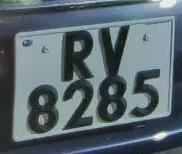2: (61, 79, 96, 130)
5: (129, 62, 165, 121)
8: (23, 80, 62, 138), (93, 72, 134, 126)
R: (57, 26, 100, 83)
V: (94, 22, 134, 77)
